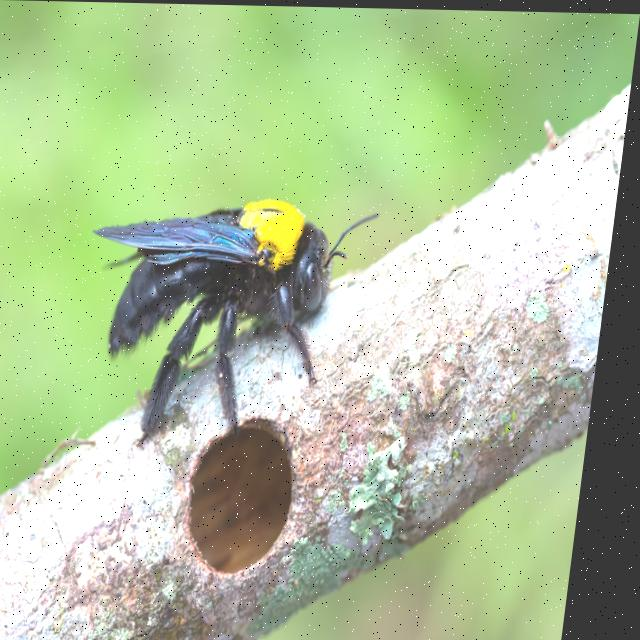Xylocopa: (81, 175, 386, 434)
